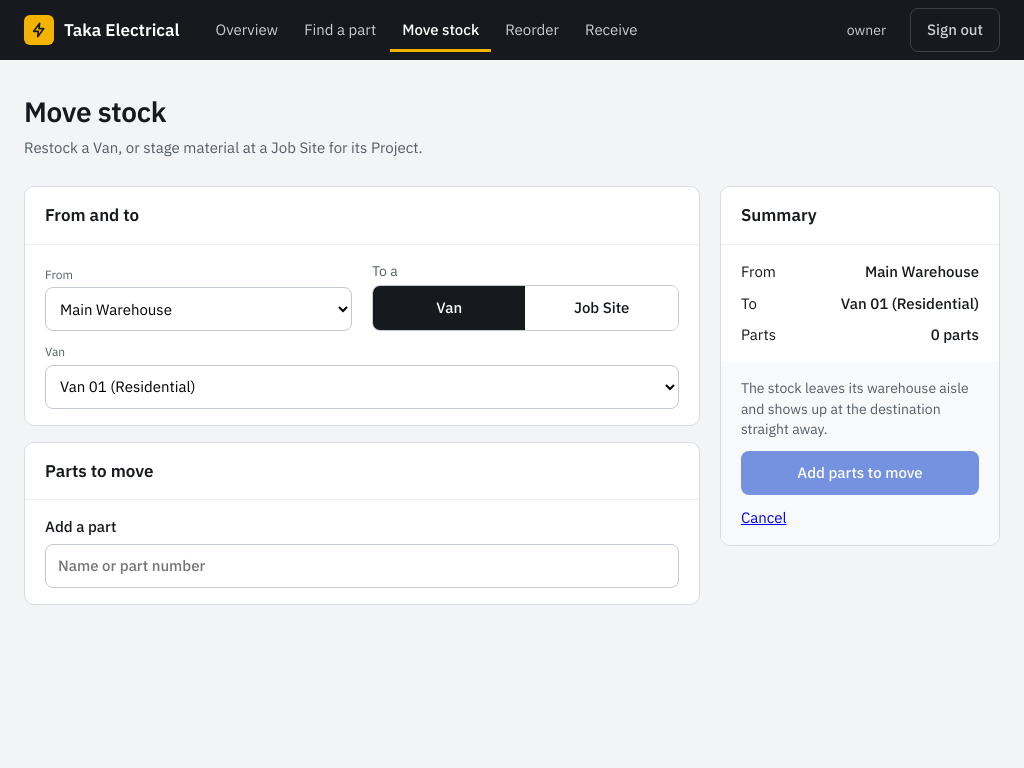
it: Move stock › blocks asking for more than is in the aisle
This screenshot has width=1024, height=768.
Type "nm-b 12/2" into the search field labelled "Add a part" at coordinates (362, 566), box [45,544,679,588]
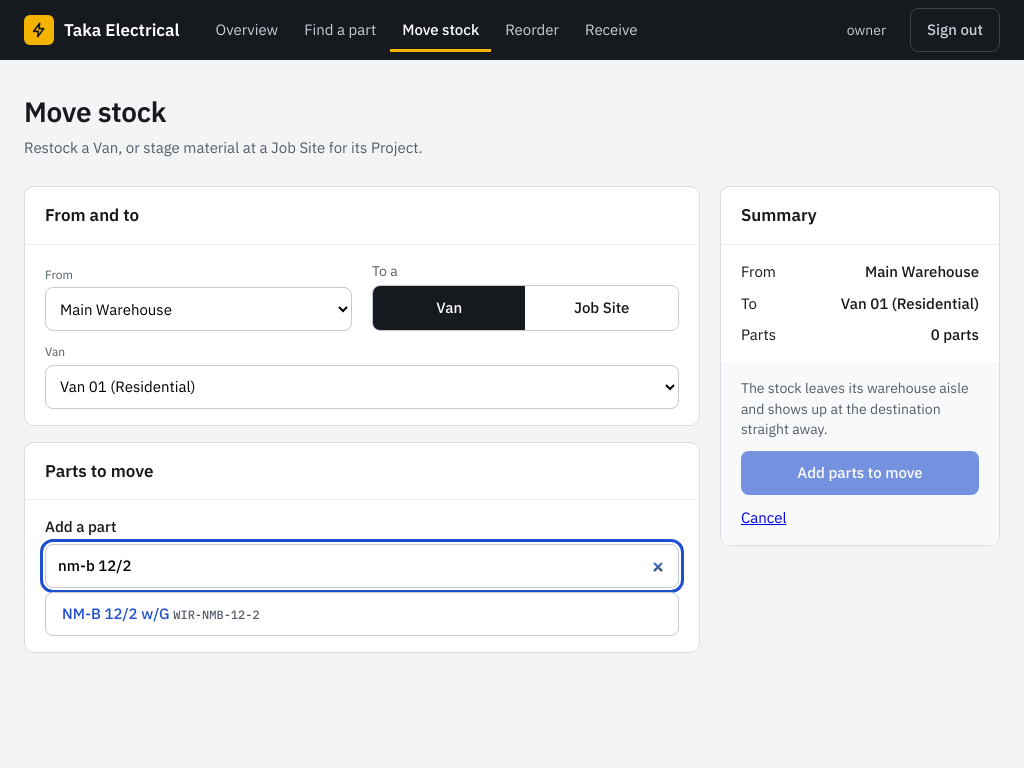
Click the button "NM-B 12/2 w/G WIR-NMB-12-2" at coordinates (116, 614), box [45,592,679,636]
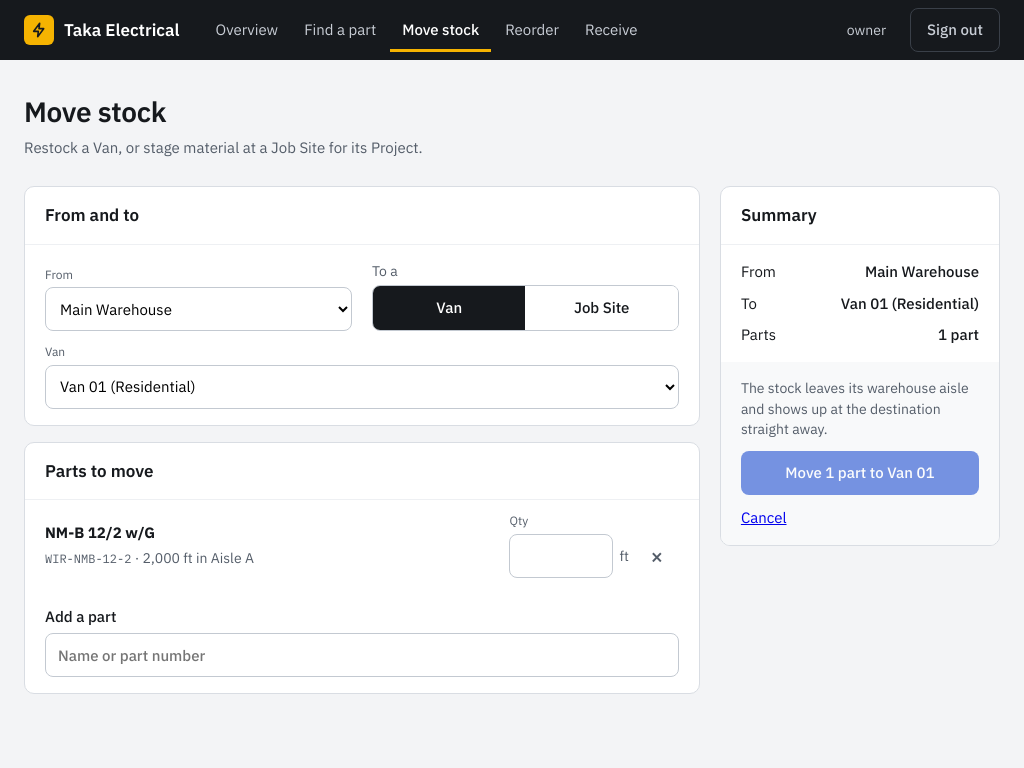
Type "2500" into the number field labelled "Qty" at coordinates (561, 556), box [509,534,613,578]
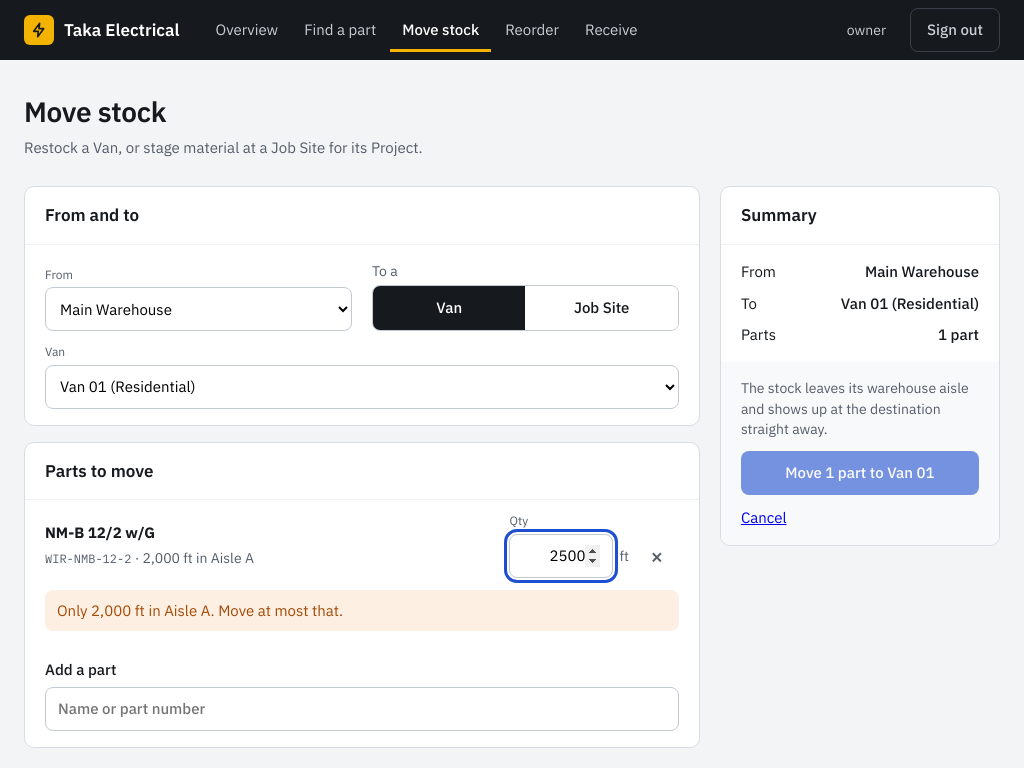
expect the button "Move 1 part to Van 01" is disabled: met, box [741,451,979,495]
expect the message reads "Only 2,000 ft in Aisle A. Move at most that.": met, box [57,601,343,620]
Replace the text in the number field labelled "Qty" with "2000" at coordinates (561, 556), box [509,534,613,578]
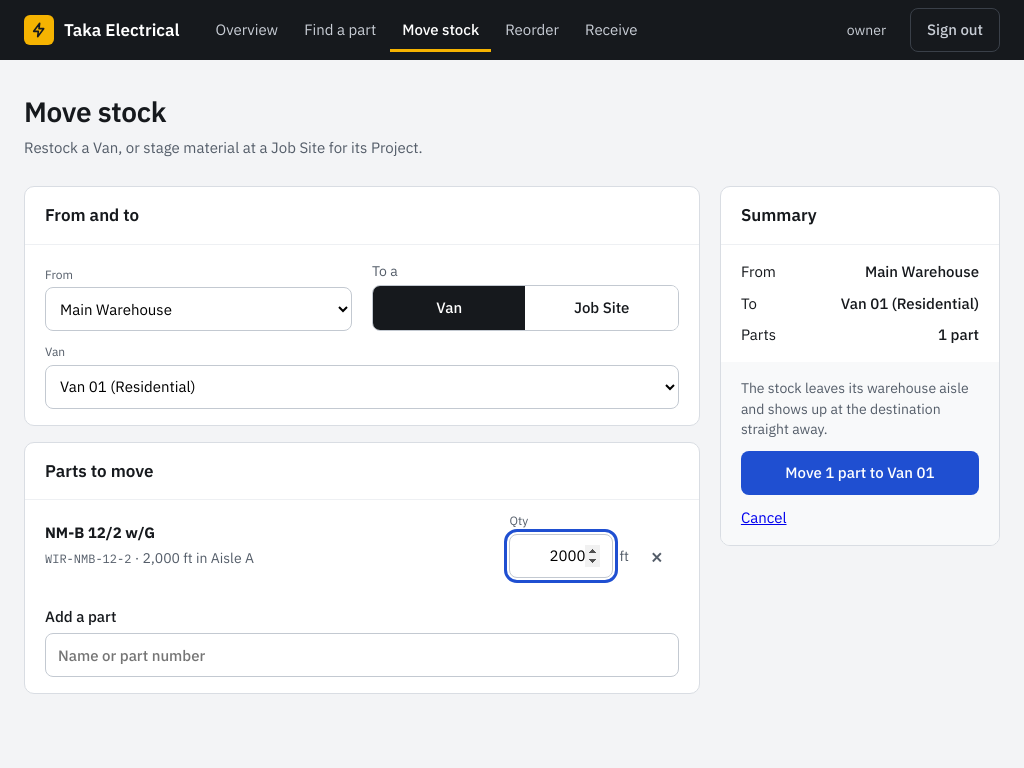
expect the message "Only 2,000 ft in Aisle A. Move at most that." is not shown: met
expect the button "Move 1 part to Van 01" is enabled: met, box [741,451,979,495]
